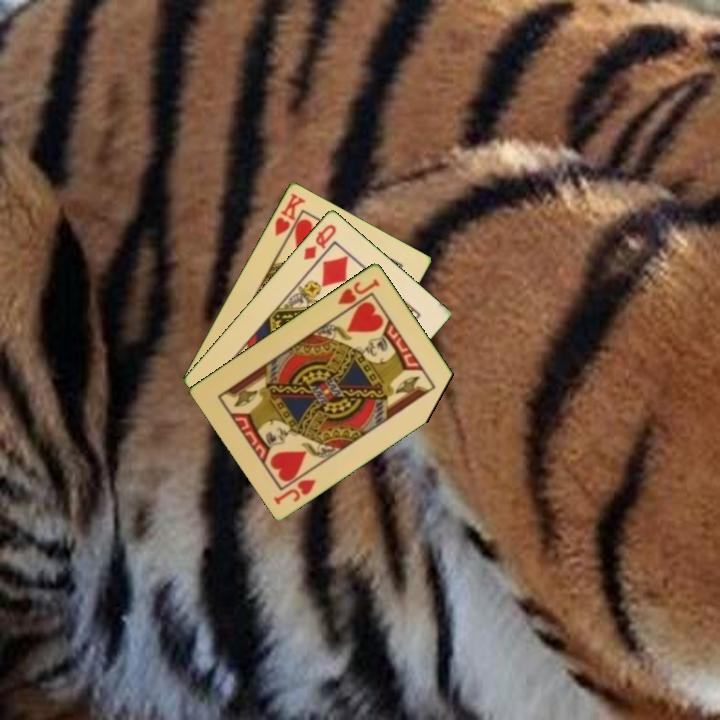Jh: (334, 274, 383, 316), (270, 475, 319, 507)
Kh: (271, 189, 308, 246)
Qd: (300, 220, 339, 263)
